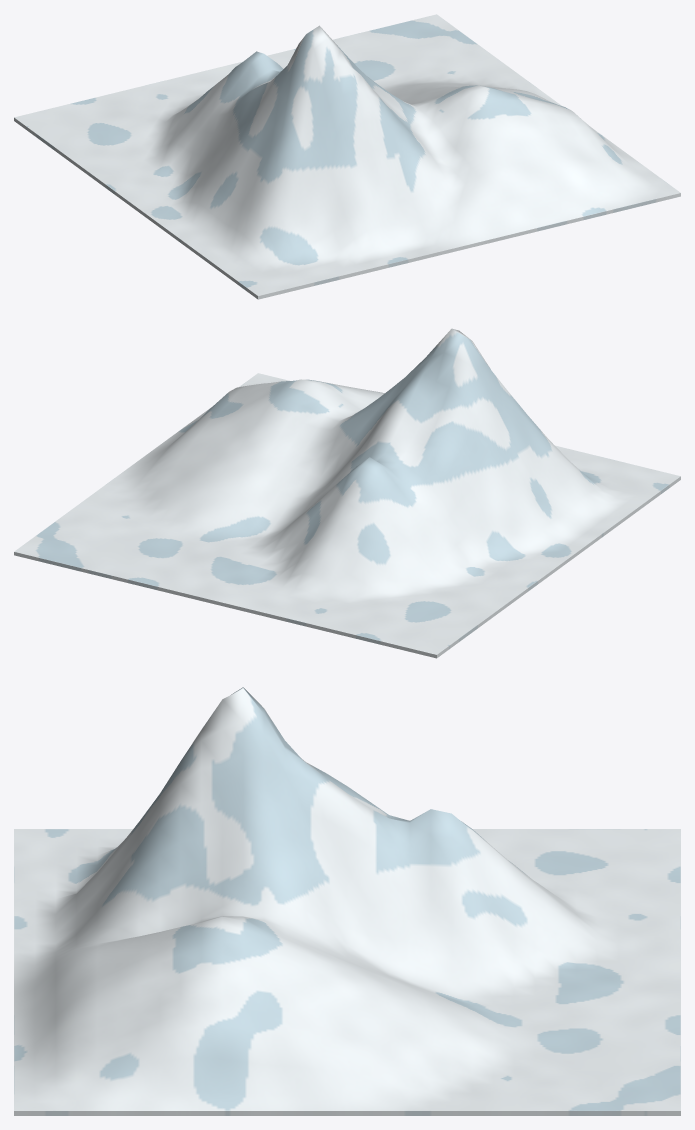
The model's file is Snow_Mountains_05.obj.
3 views of the same model, one above another, from view 1: azimuth 30°, elevation 25°; view 2: azimuth 150°, elevation 25°; view 3: azimuth 270°, elevation 25° (orthographic). The views are drawn at different scales.
Size of the model in its own units: 10 by 4.01 by 10.
Materials: 1 (1 with a texture image).
